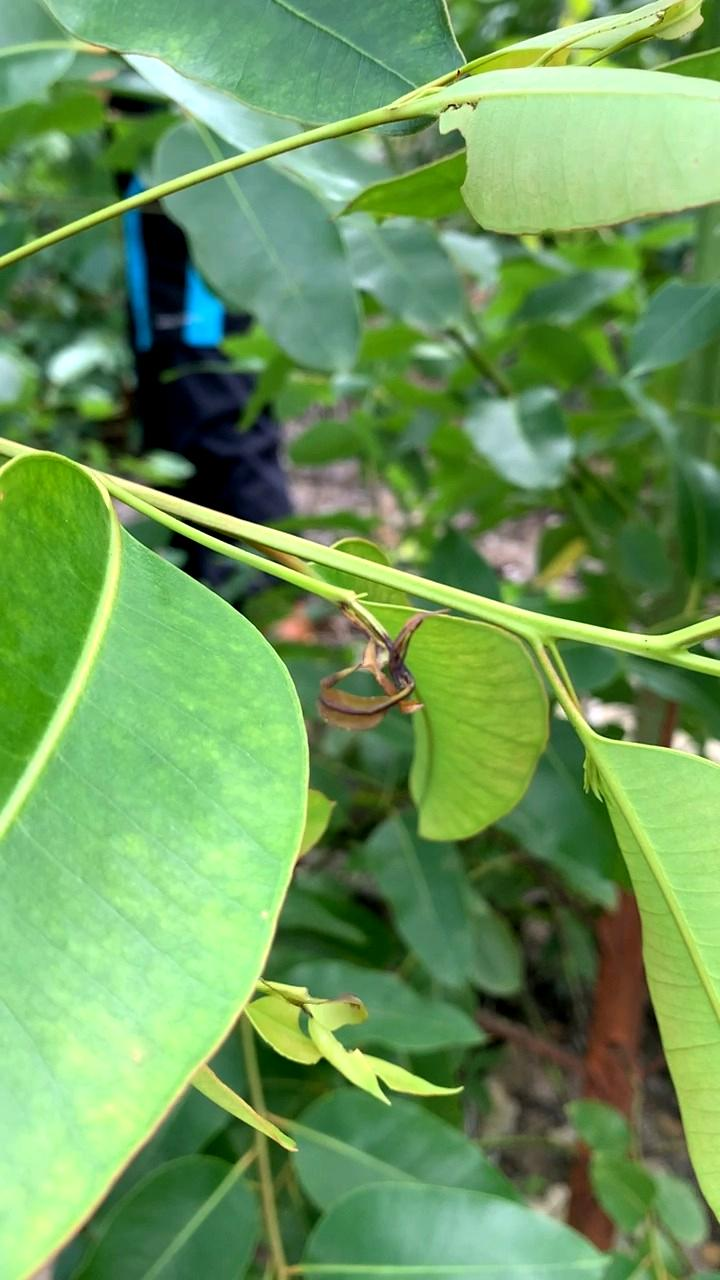Helopeltis-Withered Sprout: (308, 600, 449, 741)
